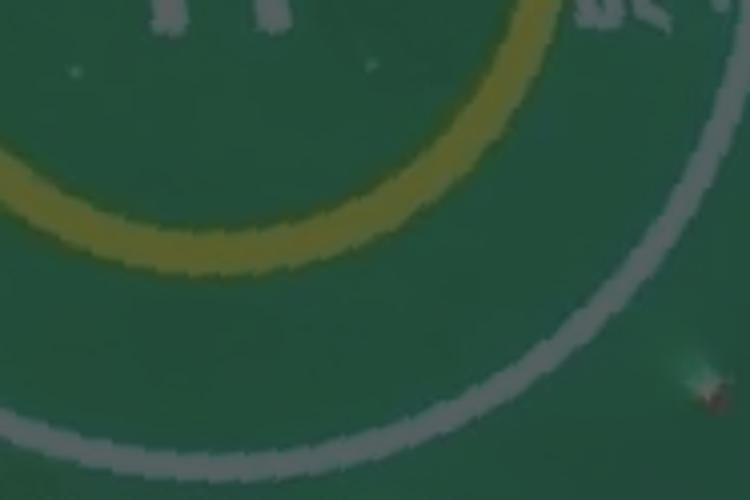Apron: (1, 1, 570, 284)
